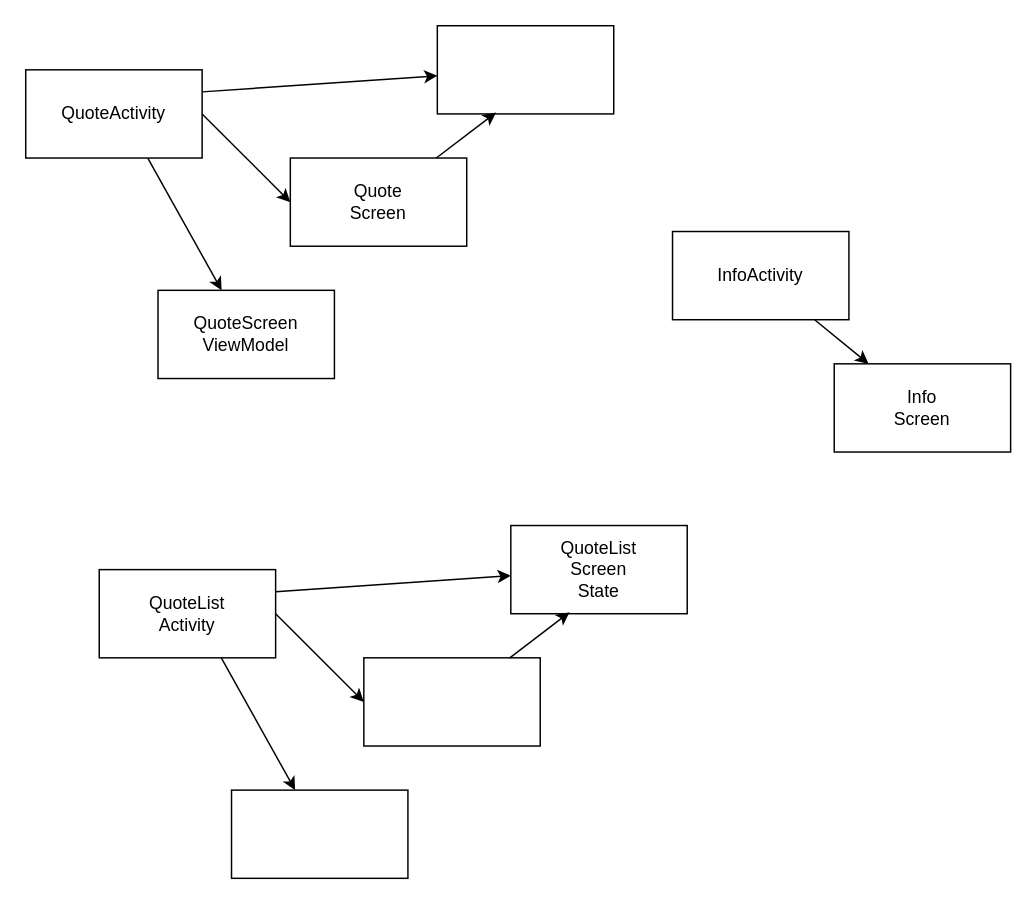
Image size: 1036x904. Some labels were removed from this diagram. The shapes that lost their labels are listed below. From the top down, each one's centre as x and y in pixels, then its label:
At [525,69]: "Quote Screen State".
At [451,701]: "QuoteList Screen".
At [319,833]: "QuoteListScreen ViewModel".
